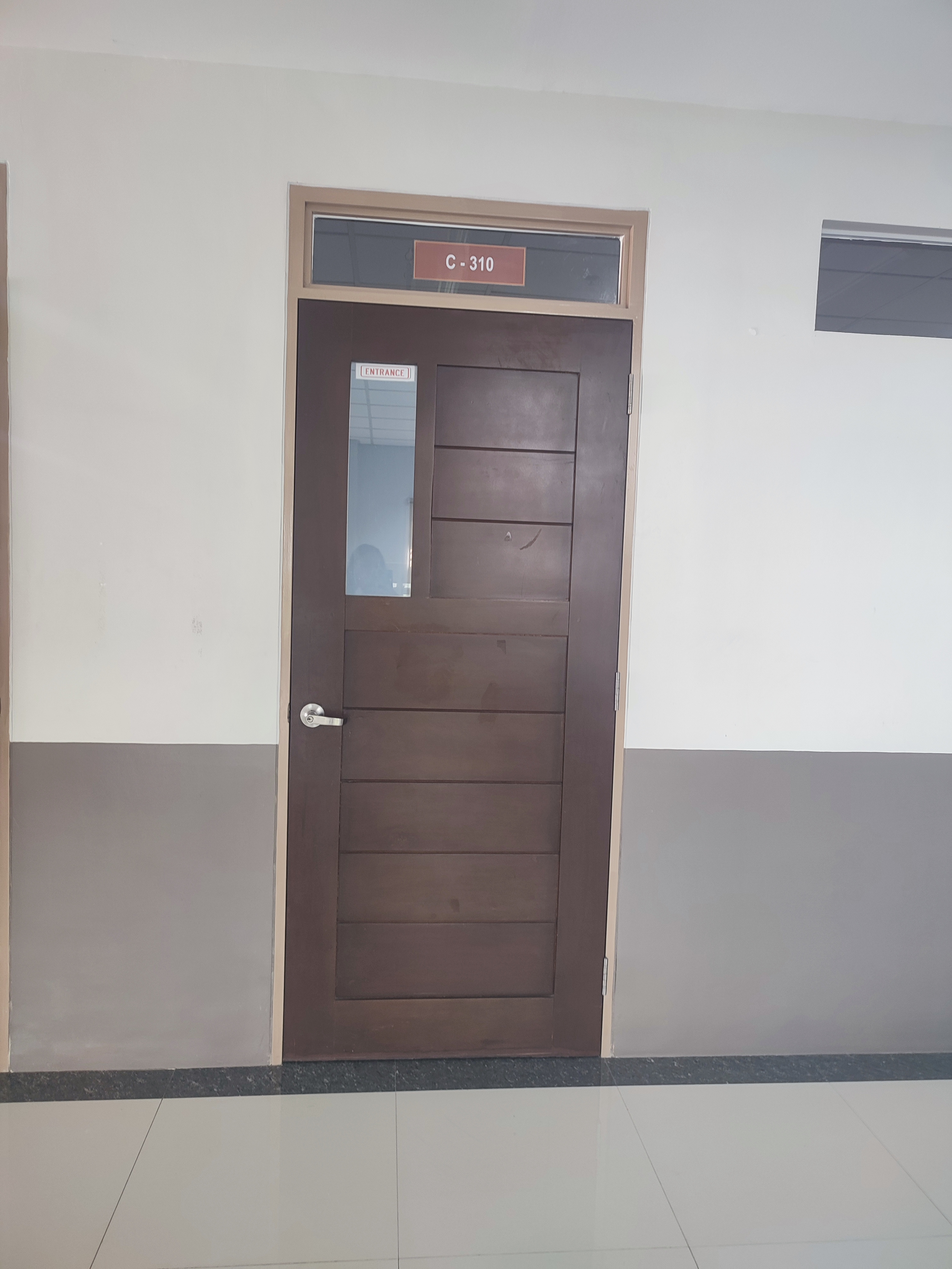door: (276, 181, 651, 1070)
